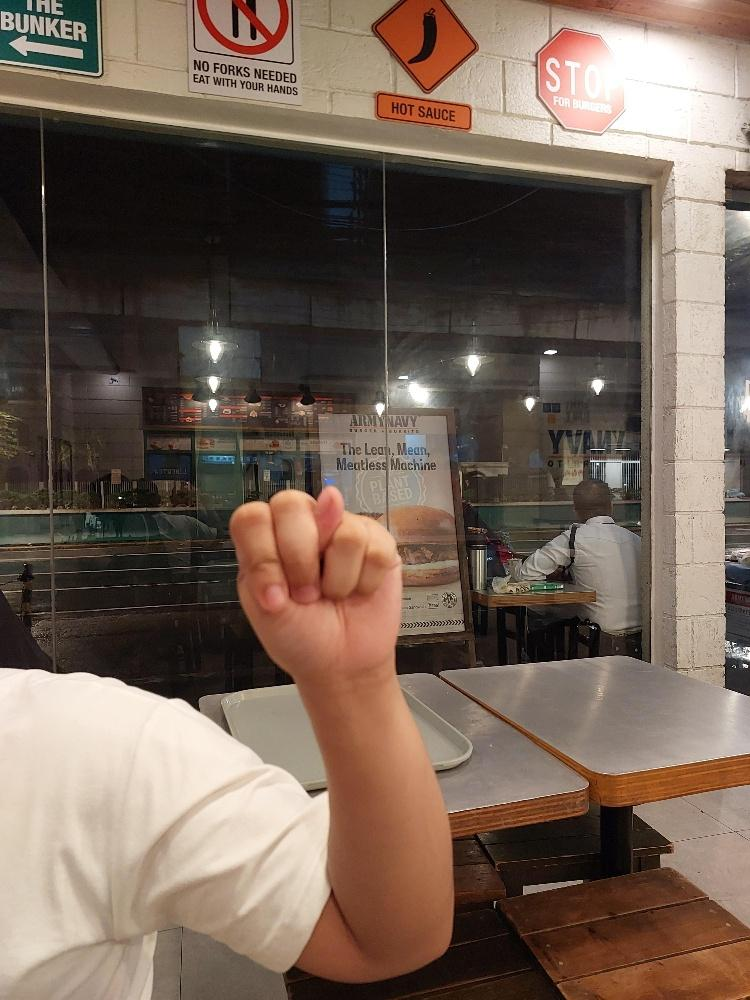n: (226, 481, 403, 678)
